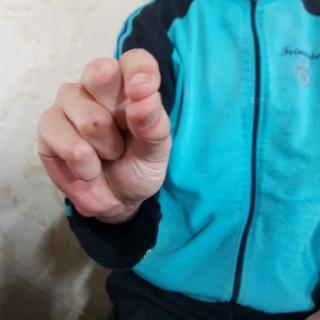FAA: (33, 43, 181, 218)
